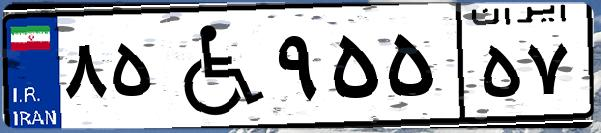5: (385, 28, 445, 110), (330, 28, 385, 110), (475, 38, 525, 113), (110, 28, 158, 98)
7: (525, 38, 570, 115)
8: (57, 26, 110, 100)
9: (270, 28, 330, 110)
ژ (معلولین و جانبازان): (158, 12, 270, 120)
